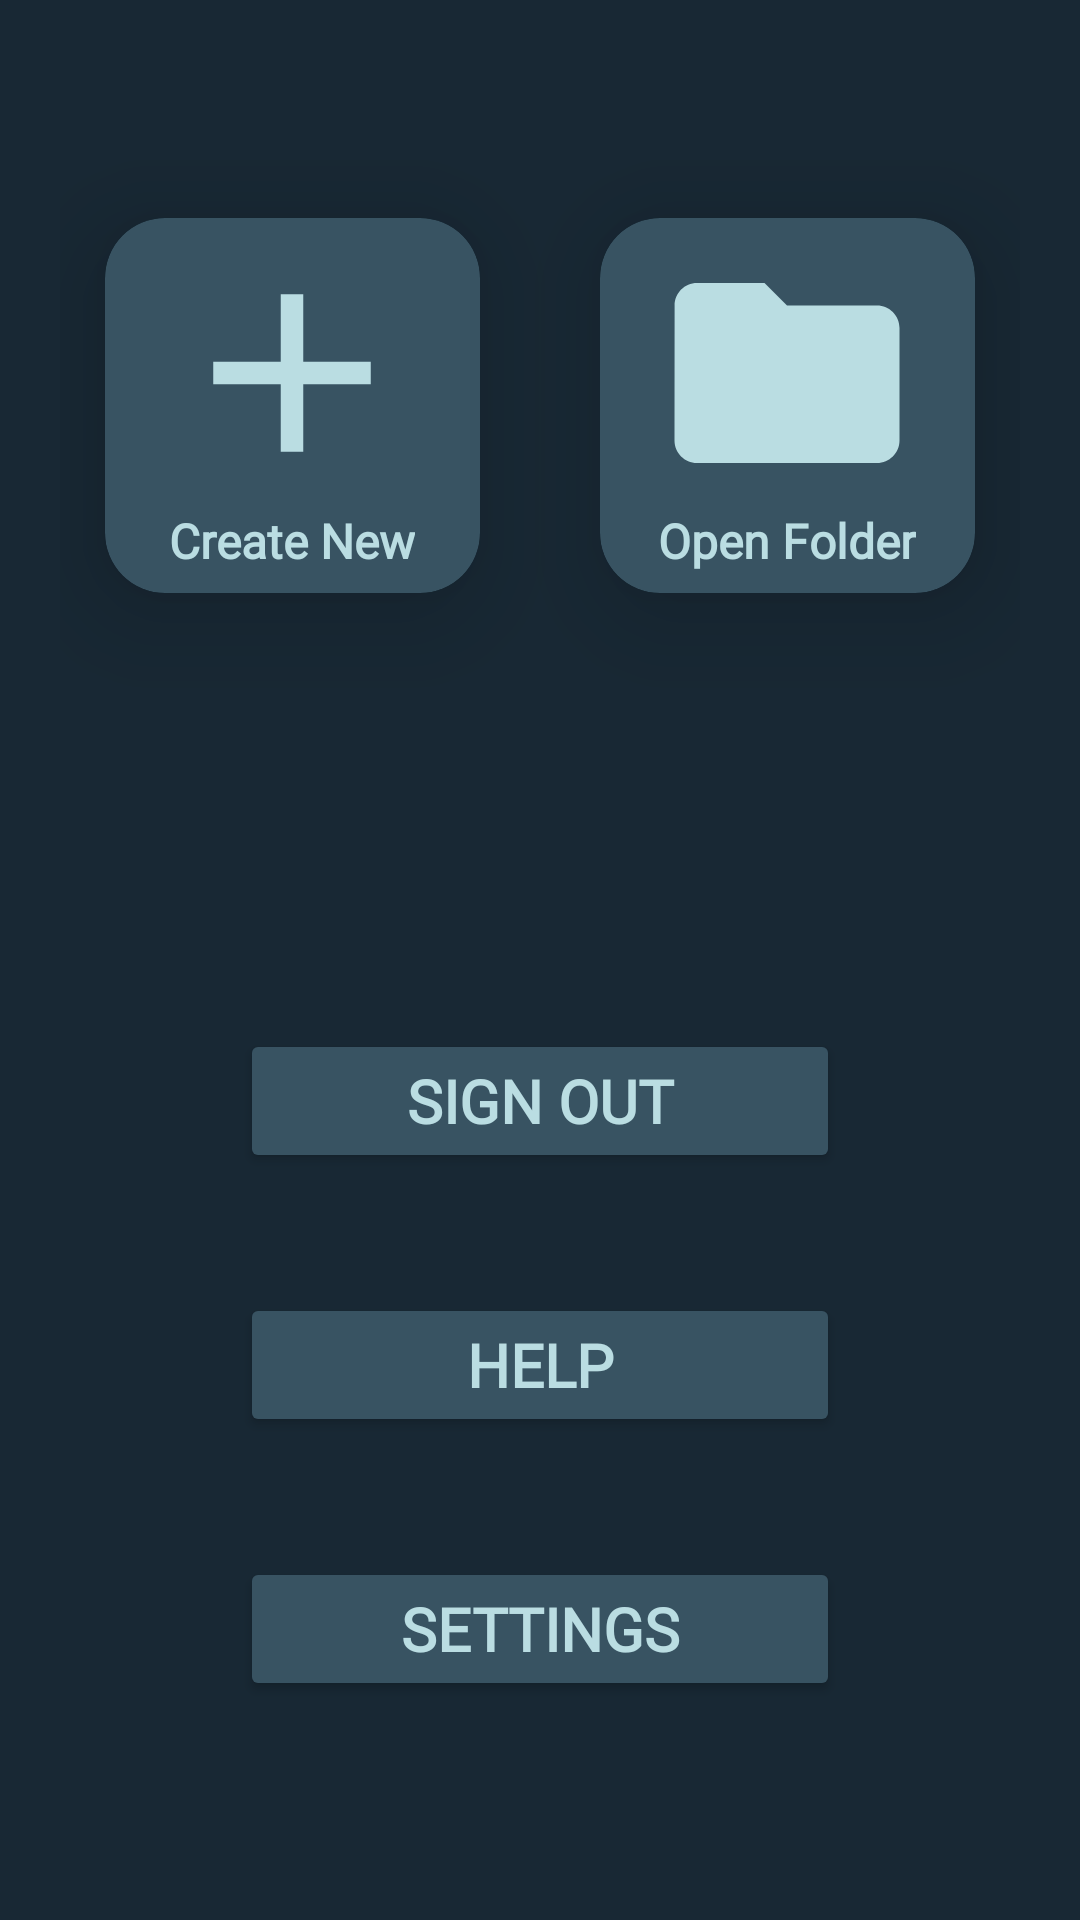

Locate icon controls on the screen. Image size 1080px×1920px, boxes as Rect(x1, y1, x2, y2).
add box: Rect(213, 294, 371, 452)
